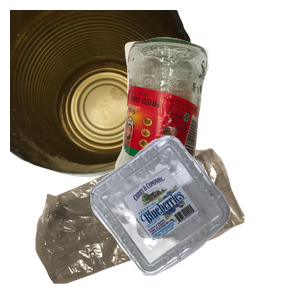glass: (112, 35, 300, 215)
metal: (10, 10, 200, 180)
plastic: (88, 133, 300, 300)
trash: (33, 145, 270, 300)
